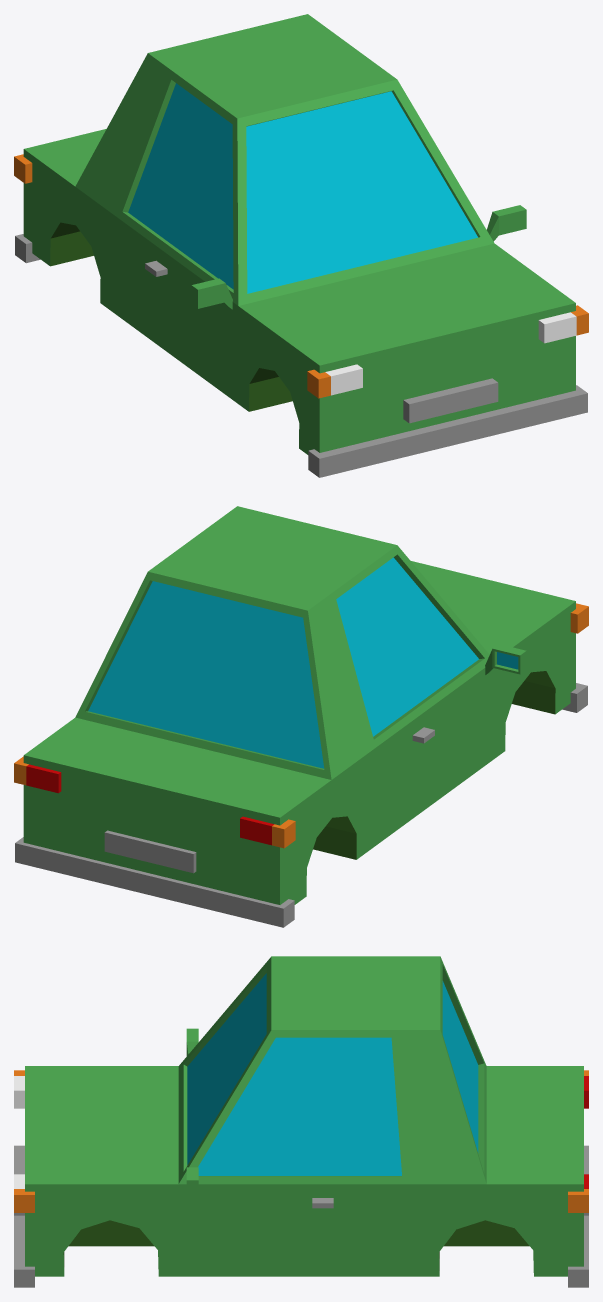
File: exp_cars.fbx
3 renders of one model, top to bottom at view 1: azimuth 30°, elevation 25°; view 2: azimuth 150°, elevation 25°; view 3: azimuth 270°, elevation 25°, orthographic. The views are drawn at different scales.
Visible parts, largest first — view 1: Car; view 2: Car; view 3: Car.
Part boxes in pixels (x1=…): Car: x1=14, y1=14, x2=588, y2=477; Car: x1=14, y1=506, x2=588, y2=927; Car: x1=14, y1=956, x2=588, y2=1287.
Bounding box in the file's own units: 2.56 × 1.84 × 4.12.
